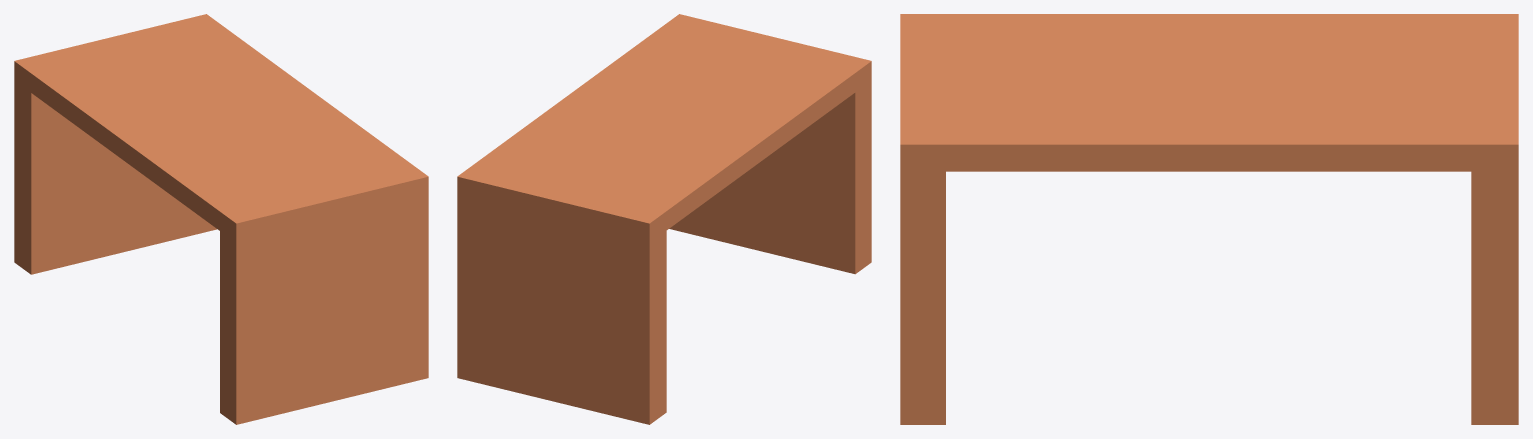
File: Table.fbx
3 views of the same model, side by side, from view 1: azimuth 30°, elevation 25°; view 2: azimuth 150°, elevation 25°; view 3: azimuth 270°, elevation 25° (orthographic). The views are drawn at different scales.
Visible parts, largest first — view 1: Table; view 2: Table; view 3: Table.
Part boxes in pixels (box(x1,y1,x2,y2)): Table: box(14, 14, 428, 424); Table: box(457, 14, 871, 424); Table: box(900, 14, 1518, 424).
Size of the model in its own units: 200 by 200 by 400.
